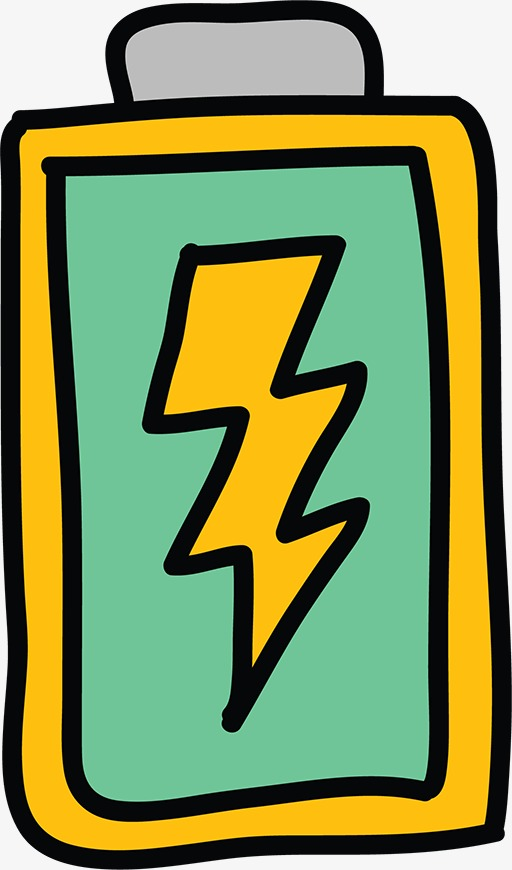charging sign: (2, 10, 506, 849)
